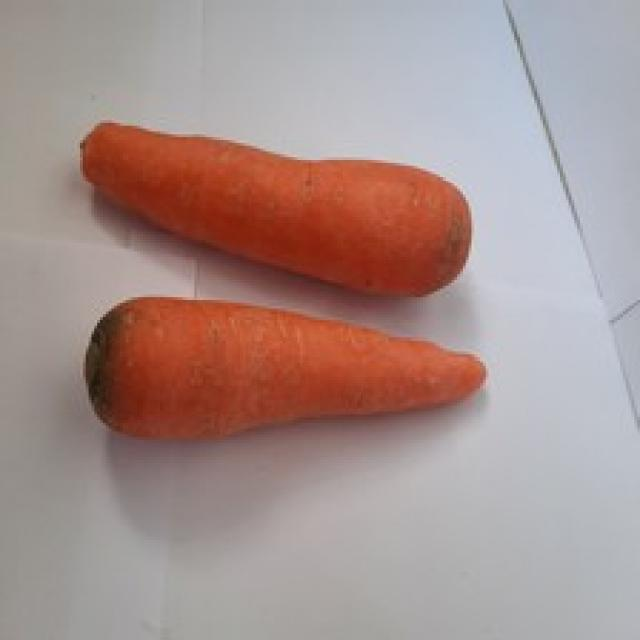carrot: (70, 118, 480, 299), (80, 296, 490, 442)
